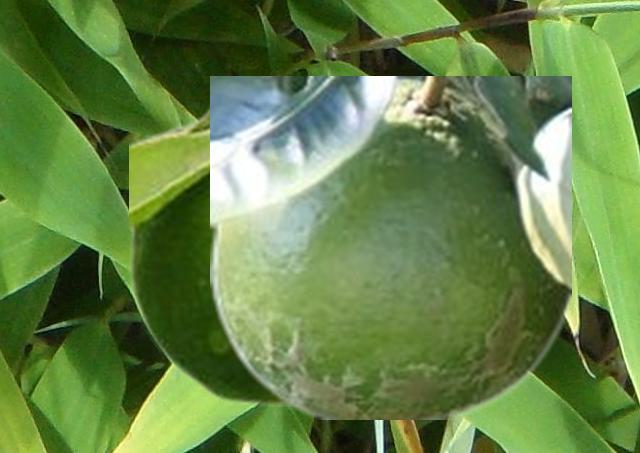dalandan: (210, 76, 570, 418), (129, 95, 284, 405)
